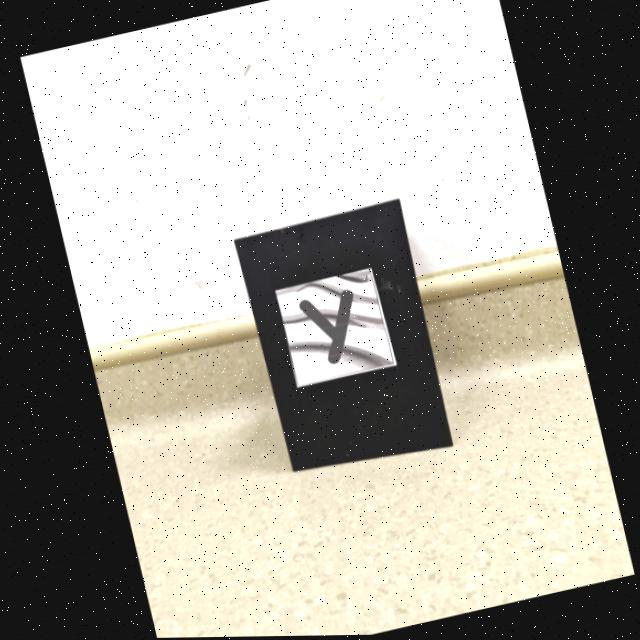Y: (298, 290, 351, 364)
